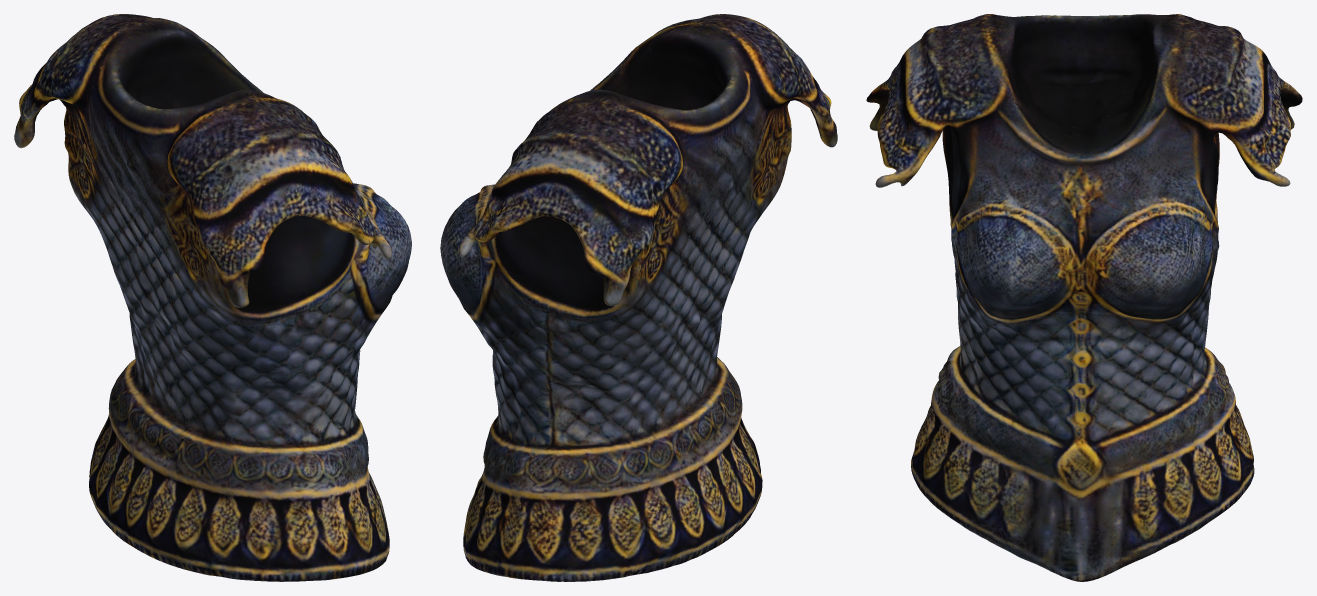
The model's file is armor.glb.
3 renders of one model, left to right at view 1: azimuth 30°, elevation 25°; view 2: azimuth 150°, elevation 25°; view 3: azimuth 270°, elevation 25°, orthographic. The views are drawn at different scales.
Parts seen in each view (by area): view 1: high_poly_0; view 2: high_poly_0; view 3: high_poly_0.
Boxes of the visible parts, left/top/right/bottom form: high_poly_0: left=14, top=14, right=411, bottom=581; high_poly_0: left=440, top=14, right=837, bottom=581; high_poly_0: left=866, top=14, right=1302, bottom=581.
Size of the model in its own units: 0.5137 by 1 by 0.8089.
1 material, 1 textured.
